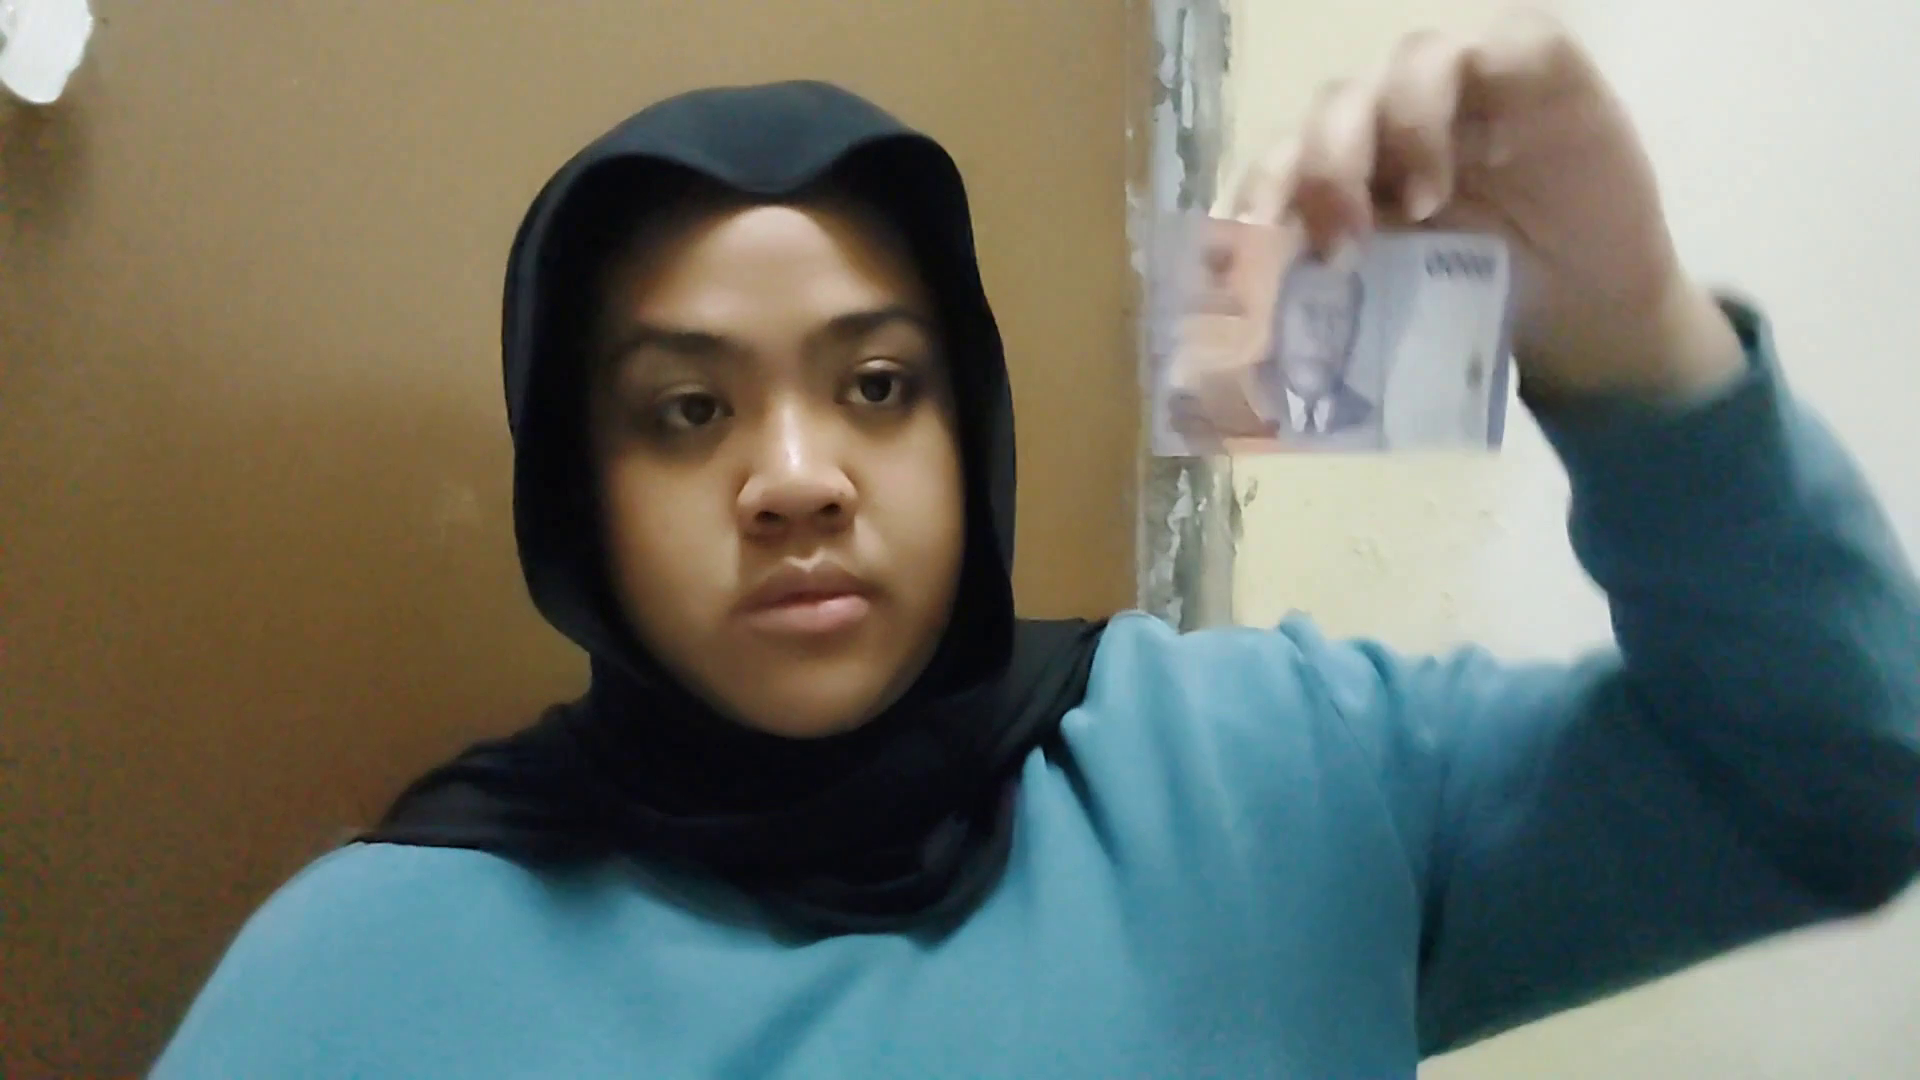10k: (1131, 212, 1513, 451)
